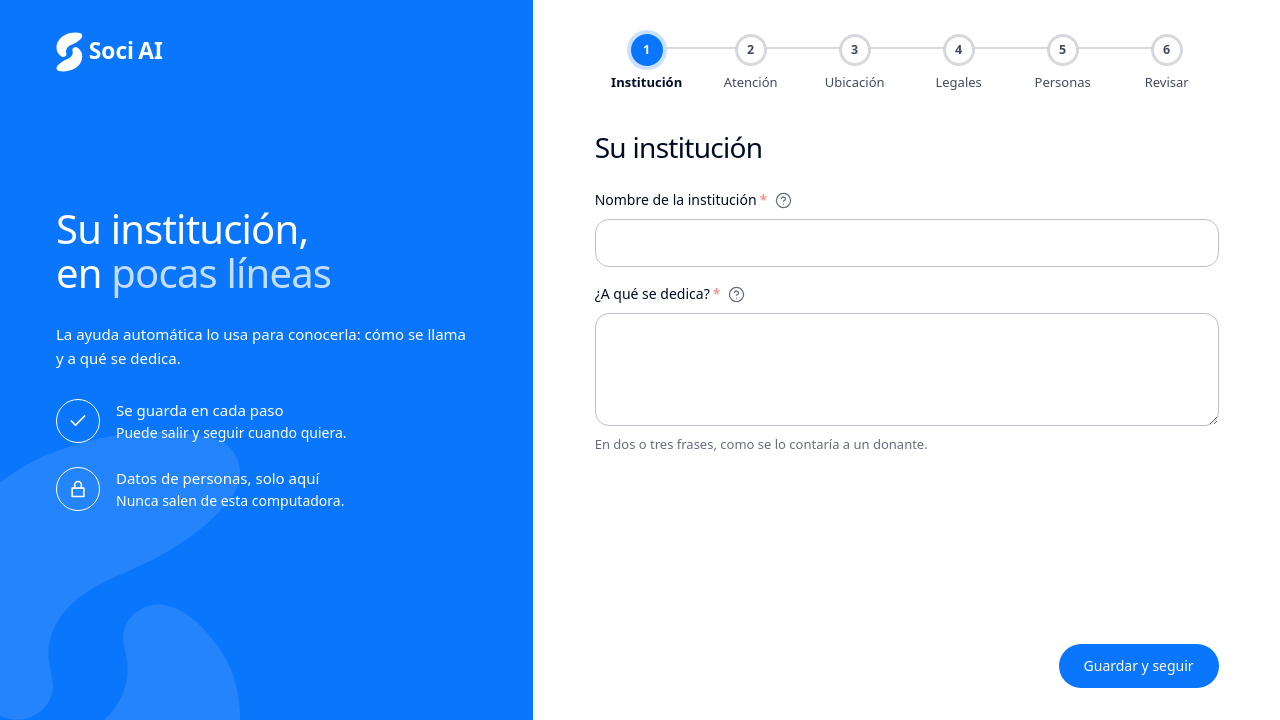
Test: the first start › the direction cannot skip the data and is told what is missing, in the words of each field
This screenshot has width=1280, height=720.
Check: the heading "Su institución" is shown, box [595,128,762,166]
Step 1. Click the button "Guardar y seguir" → (1139, 666), box [1058,644,1219,688]
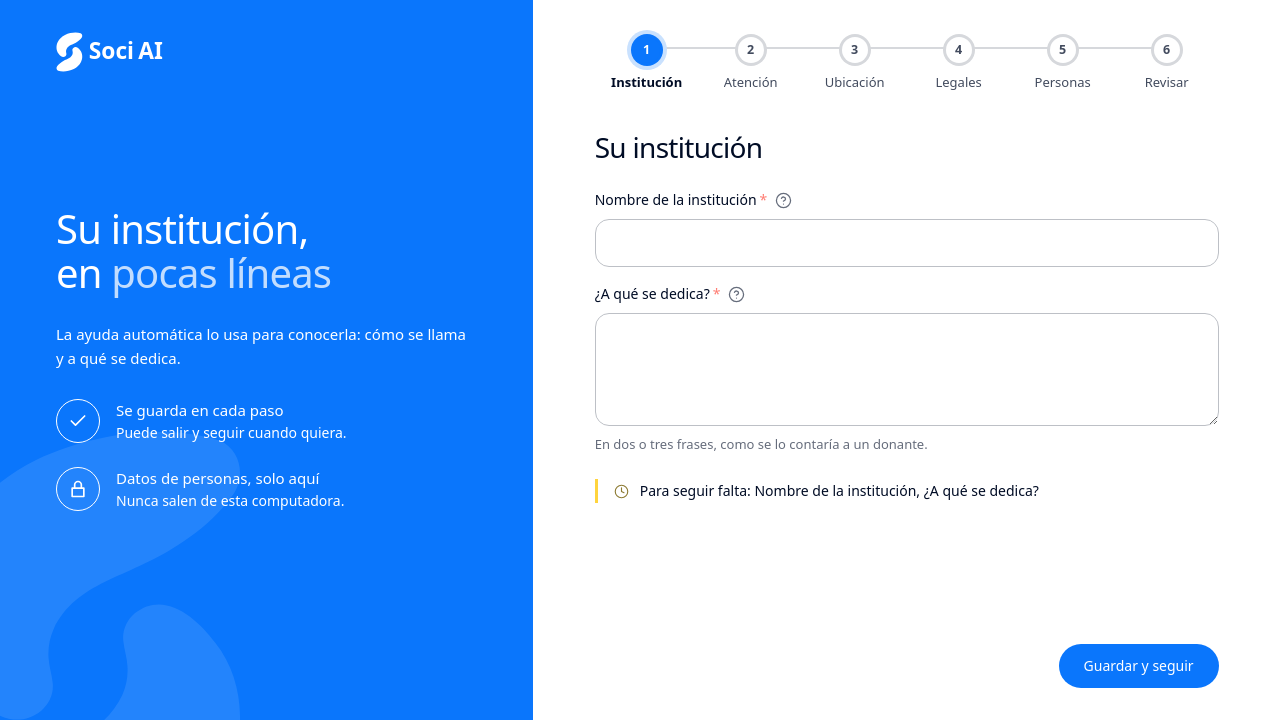
Check: the text "Para seguir falta: Nombre de la institución, ¿A qué se dedica?" is shown, box [640,481,1039,500]
